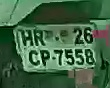2: (72, 27, 84, 50)
5: (63, 48, 75, 68), (74, 48, 86, 67)
6: (82, 27, 96, 45)
7: (53, 48, 65, 69)
8: (83, 48, 96, 66)
C: (25, 48, 40, 69)
H: (20, 29, 35, 48)
P: (39, 50, 53, 70)
R: (33, 27, 46, 49)
